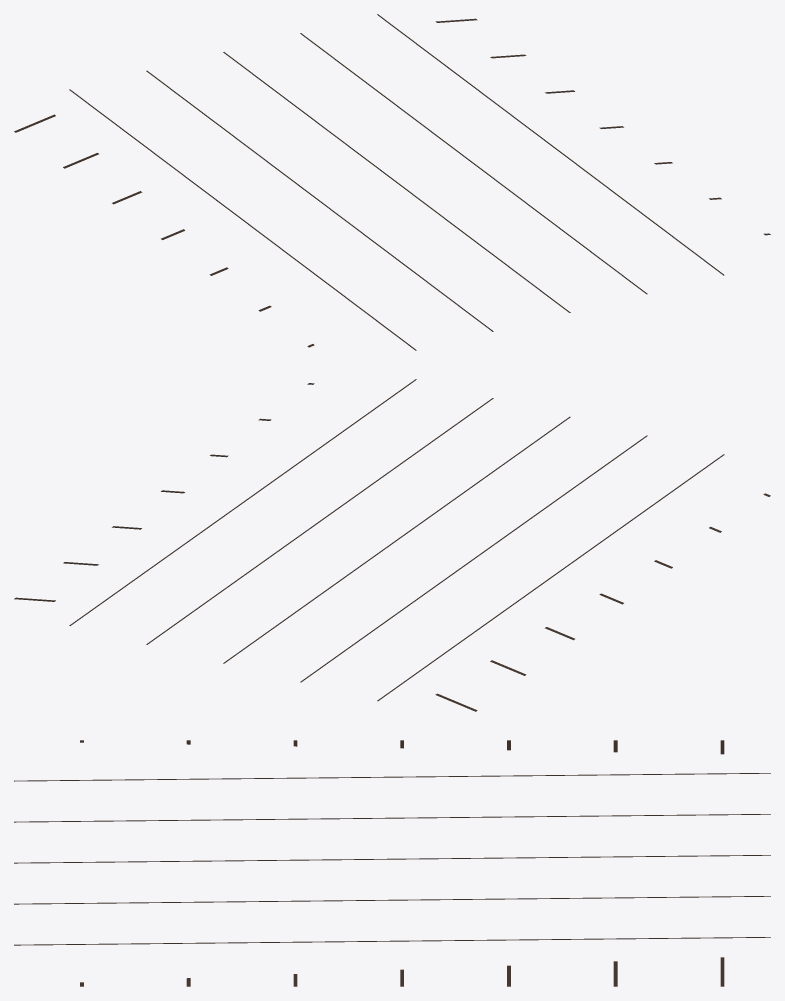
The model's file is weir_apron_detail1.glb.
The picture shows the model from 3 angles, top to bottom: view 1: azimuth 30°, elevation 25°; view 2: azimuth 150°, elevation 25°; view 3: azimuth 270°, elevation 25°; orthographic projection. The views are drawn at different scales.
Parts seen in each view (by area): view 1: weir_apron_detail1_mesh; view 2: weir_apron_detail1_mesh; view 3: weir_apron_detail1_mesh.
Boxes of the visible parts, box(x1,y1,x2,y2) form: weir_apron_detail1_mesh: box(14, 14, 770, 350); weir_apron_detail1_mesh: box(14, 379, 770, 711); weir_apron_detail1_mesh: box(14, 740, 770, 986).
Size of the model in its own units: 30 by 0.4779 by 39.
